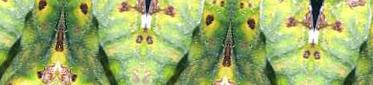Tomato Septoria leaf spot: (127, 0, 245, 85)
